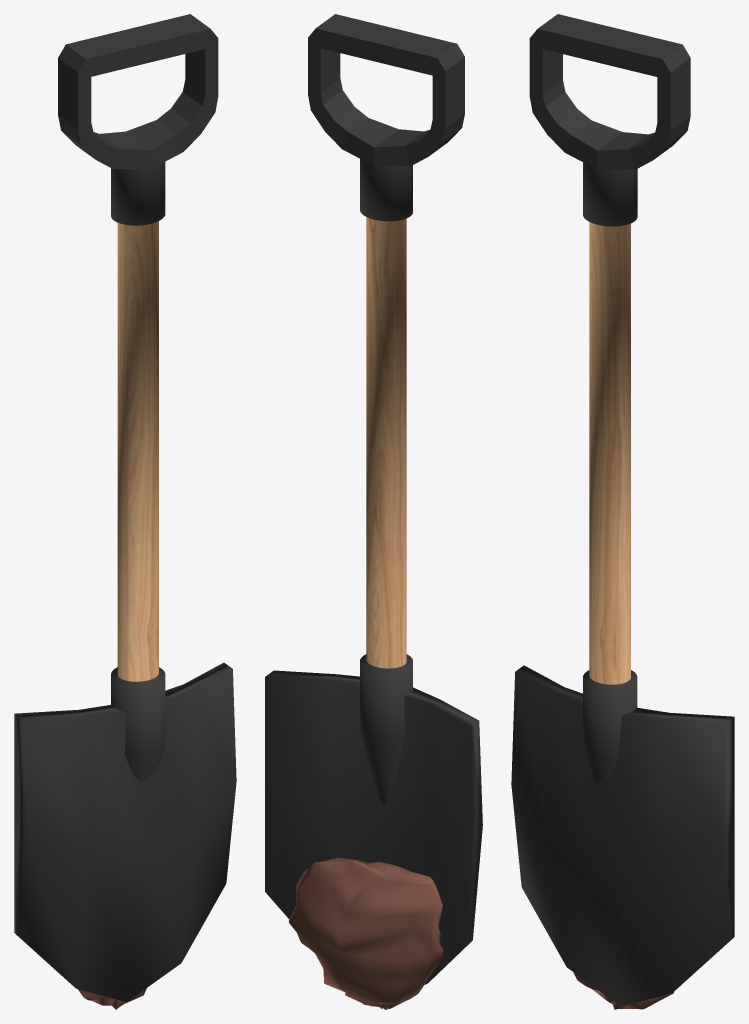
File: shovelmitdreck.glb
The picture shows the model from 3 angles, left to right: view 1: azimuth 30°, elevation 25°; view 2: azimuth 150°, elevation 25°; view 3: azimuth 330°, elevation 25°; orthographic projection. The views are drawn at different scales.
Visible parts, largest first — view 1: Schibbe, Stange, Griff; view 2: Schibbe, Stange, Sphere, Griff; view 3: Schibbe, Stange, Griff, Sphere.
Boxes of the visible parts, <box> form: Schibbe: <box>14,662,236,1002</box>; Stange: <box>111,162,165,781</box>; Griff: <box>58,14,218,169</box>; Schibbe: <box>265,670,482,985</box>; Stange: <box>360,159,412,803</box>; Sphere: <box>288,857,443,1009</box>; Griff: <box>308,14,464,166</box>; Schibbe: <box>511,665,734,1006</box>; Stange: <box>583,162,637,782</box>; Griff: <box>529,14,690,169</box>; Sphere: <box>573,972,673,1009</box>.
Bounding box in the file's own units: 2 × 8.94 × 0.8094.
3 materials, 1 textured.
